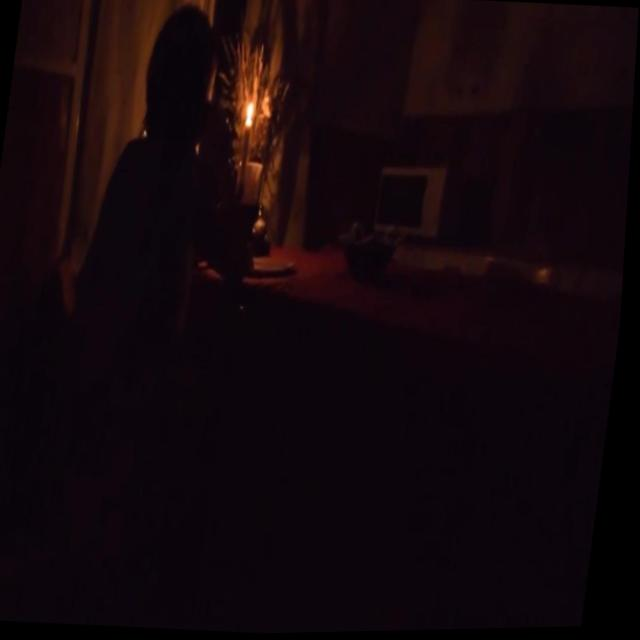fire: (245, 99, 257, 124)
